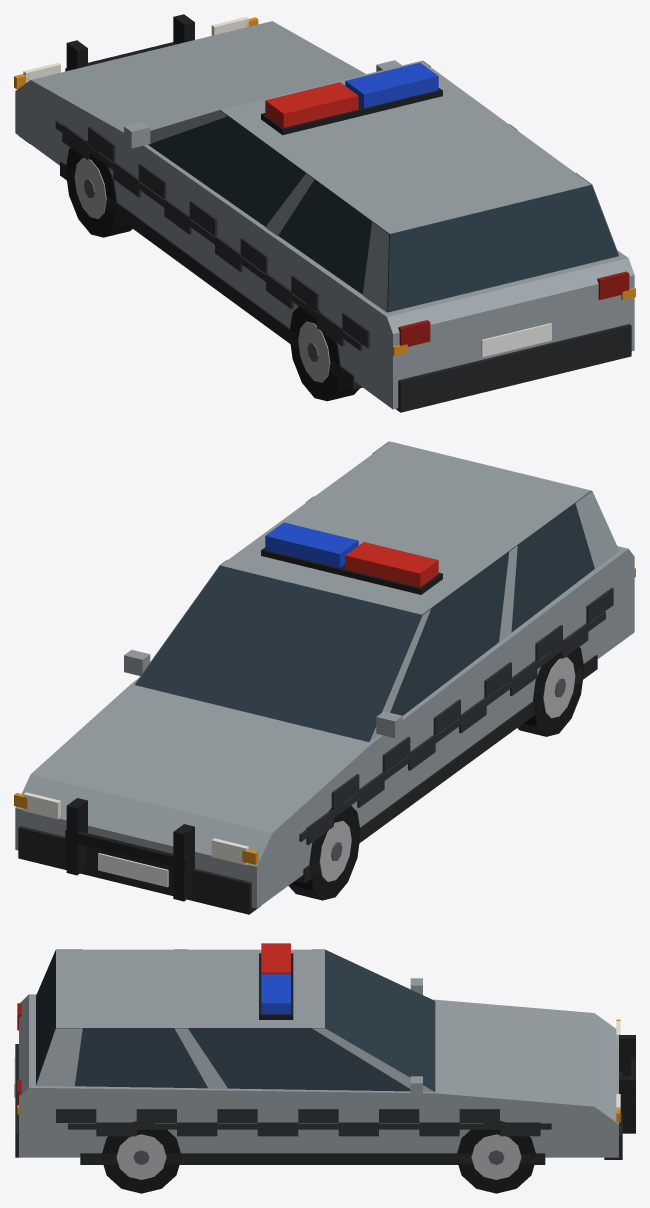
Rendered from police.glb.
3 renders of one model, top to bottom at view 1: azimuth 30°, elevation 25°; view 2: azimuth 150°, elevation 25°; view 3: azimuth 270°, elevation 25°, orthographic. The views are drawn at different scales.
Visible parts, largest first — view 1: Police, Red, Blue, LightBase, TailR, TailL; view 2: Police, Red, Blue, LightBase, HeadR, HeadL; view 3: Police, Blue, Red, LightBase.
Boxes of the visible parts, bbox=[...] form: Police: bbox=[15, 14, 634, 412]; Red: bbox=[265, 82, 358, 127]; Blue: bbox=[345, 62, 438, 108]; LightBase: bbox=[261, 88, 442, 135]; TailR: bbox=[597, 271, 629, 299]; TailL: bbox=[398, 320, 430, 346]; Police: bbox=[15, 441, 634, 914]; Red: bbox=[345, 542, 438, 587]; Blue: bbox=[265, 522, 358, 567]; LightBase: bbox=[261, 547, 442, 594]; HeadR: bbox=[23, 792, 60, 819]; HeadL: bbox=[211, 838, 248, 865]; Police: bbox=[14, 949, 635, 1193]; Blue: bbox=[261, 974, 290, 1014]; Red: bbox=[261, 943, 290, 974]; LightBase: bbox=[259, 953, 293, 1019].
Size of the model in its own units: 2.03 by 1.56 by 5.08.
